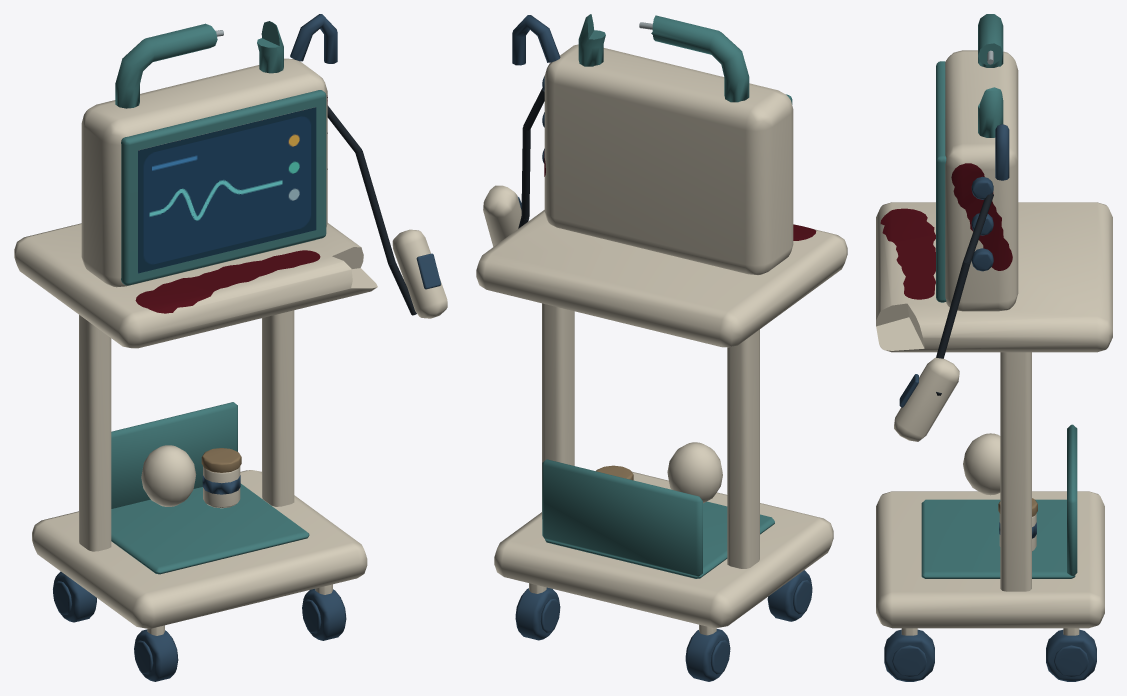
Rendered from scopeair_vitadock.glb.
The picture shows the model from 3 angles, left to right: view 1: azimuth 30°, elevation 25°; view 2: azimuth 150°, elevation 25°; view 3: azimuth 270°, elevation 25°; orthographic projection.
Visible parts, largest first — view 1: OB_ScopeAirVitaDock_01_Static; view 2: OB_ScopeAirVitaDock_01_Static; view 3: OB_ScopeAirVitaDock_01_Static.
Boxes of the visible parts, x1,y1,x2,y2 form: OB_ScopeAirVitaDock_01_Static: (14, 14, 447, 681); OB_ScopeAirVitaDock_01_Static: (476, 14, 847, 681); OB_ScopeAirVitaDock_01_Static: (876, 14, 1112, 681).
Bounding box in the file's own units: 0.9781 × 1.67 × 0.6.
Materials: 8 (1 with a texture image).
